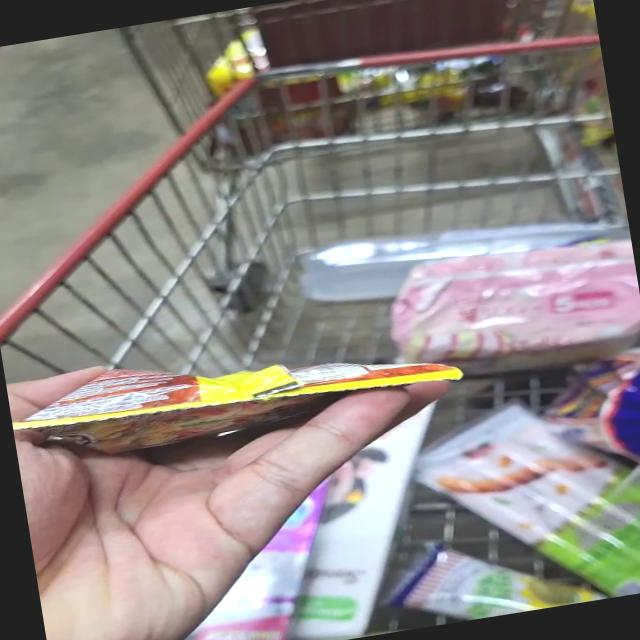Maggi Cukup Rasa: (33, 317, 465, 468)
Roti: (434, 537, 566, 624)
Tisu: (308, 431, 426, 640)
Ubat Gigi: (173, 487, 335, 640)
